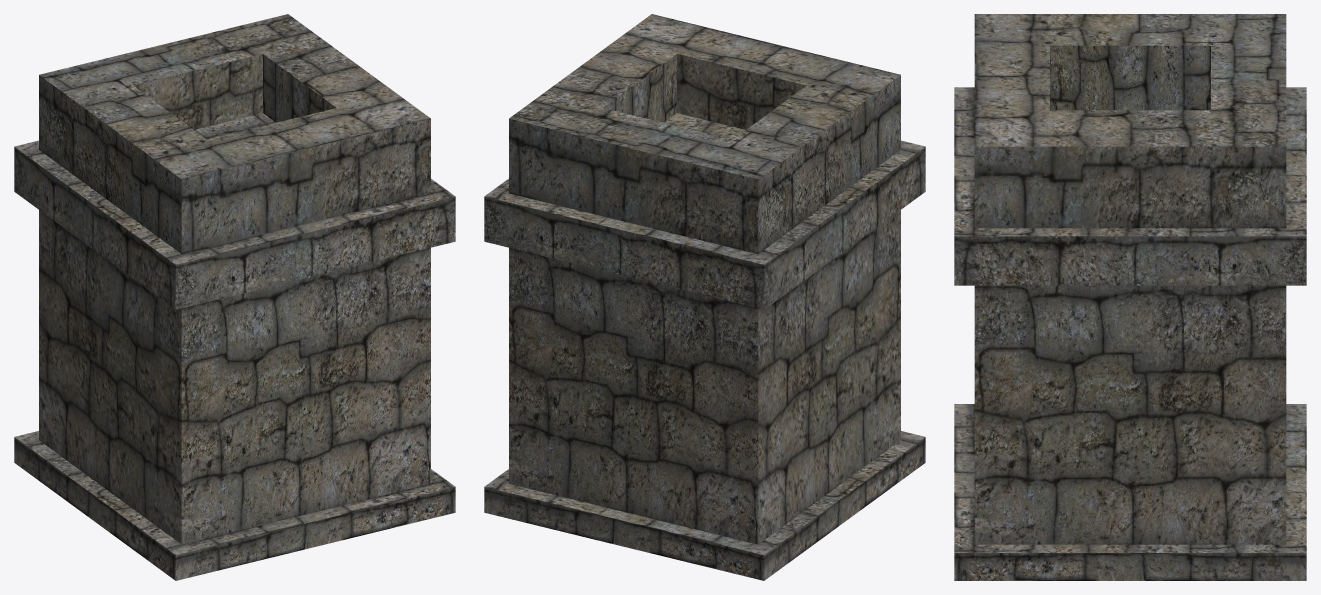
The model's file is Fort_00000000.gltf.
3 views of the same model, side by side, from view 1: azimuth 30°, elevation 25°; view 2: azimuth 150°, elevation 25°; view 3: azimuth 270°, elevation 25° (orthographic). The views are drawn at different scales.
Visible parts, largest first — view 1: Claimed_00000000; view 2: Claimed_00000000; view 3: Claimed_00000000.
Part boxes in pixels (bbox=[...]): Claimed_00000000: bbox=[14, 14, 455, 580]; Claimed_00000000: bbox=[484, 14, 925, 580]; Claimed_00000000: bbox=[954, 14, 1306, 580].
Bounding box in the file's own units: 2.5 × 3.34 × 2.5.
Materials: 1 (1 with a texture image).
